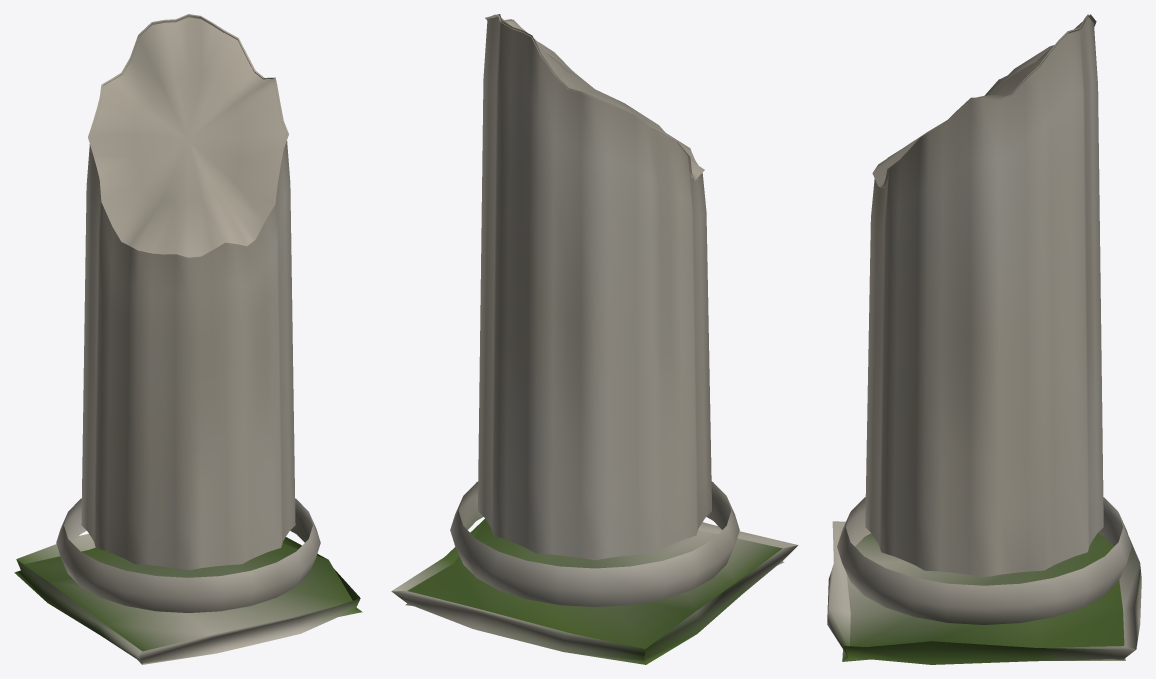
The model's file is column-broken-b.glb.
The picture shows the model from 3 angles, left to right: view 1: azimuth 30°, elevation 25°; view 2: azimuth 150°, elevation 25°; view 3: azimuth 270°, elevation 25°; orthographic projection. The views are drawn at different scales.
Parts seen in each view (by area): view 1: column-broken-b; view 2: column-broken-b; view 3: column-broken-b.
Boxes of the visible parts, x1=… form: column-broken-b: x1=14, y1=14, x2=362, y2=664; column-broken-b: x1=391, y1=14, x2=798, y2=664; column-broken-b: x1=827, y1=14, x2=1141, y2=664.
Size of the model in its own units: 0.2829 by 0.6144 by 0.2902.
